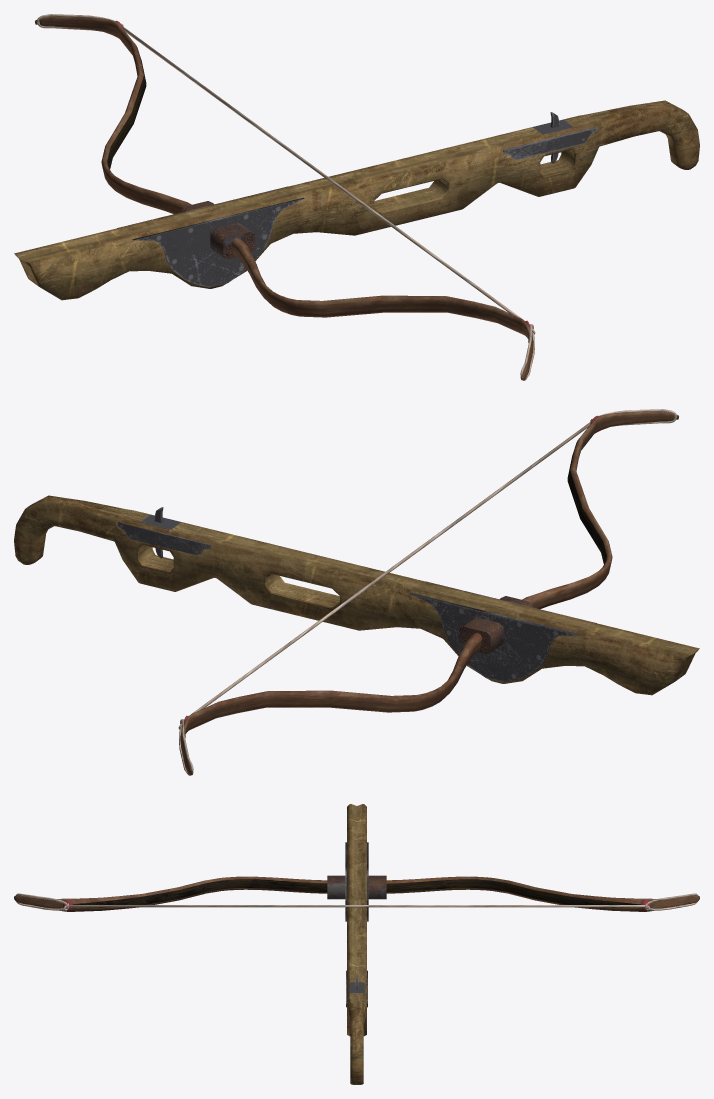
File: crossbow.glb
3 renders of one model, top to bottom at view 1: azimuth 30°, elevation 25°; view 2: azimuth 150°, elevation 25°; view 3: azimuth 270°, elevation 25°, orthographic. The views are drawn at different scales.
Parts seen in each view (by area): view 1: SM_Crossbow01a; view 2: SM_Crossbow01a; view 3: SM_Crossbow01a.
Boxes of the visible parts, left/top/right/bottom form: SM_Crossbow01a: left=14, top=14, right=699, bottom=380; SM_Crossbow01a: left=14, top=409, right=699, bottom=775; SM_Crossbow01a: left=14, top=804, right=699, bottom=1084.
Bounding box in the file's own units: 0.9655 × 0.1196 × 1.2.
1 material, 1 textured.
